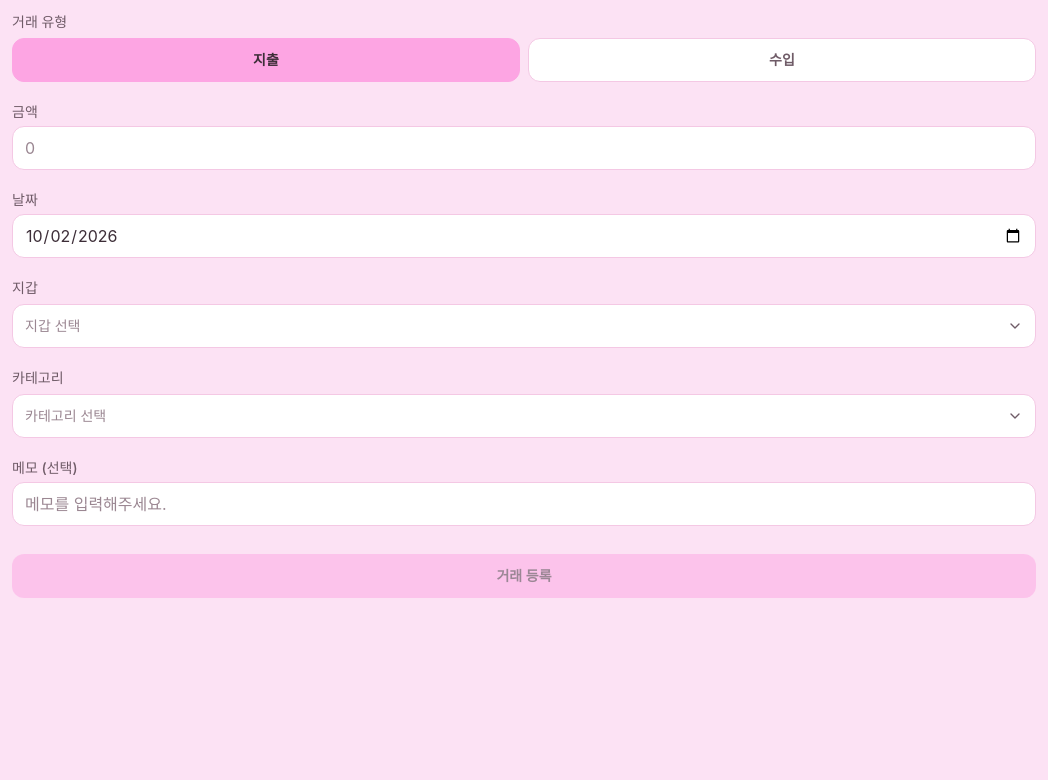
Test: TransactionForm - 카드할부 UI 노출 규칙 › 카드 지갑 선택 시 할부 개월수 입력이 노출된다
The image size is (1048, 780).
Click the button "지갑 선택" at (53,326), box [12, 304, 1036, 348]
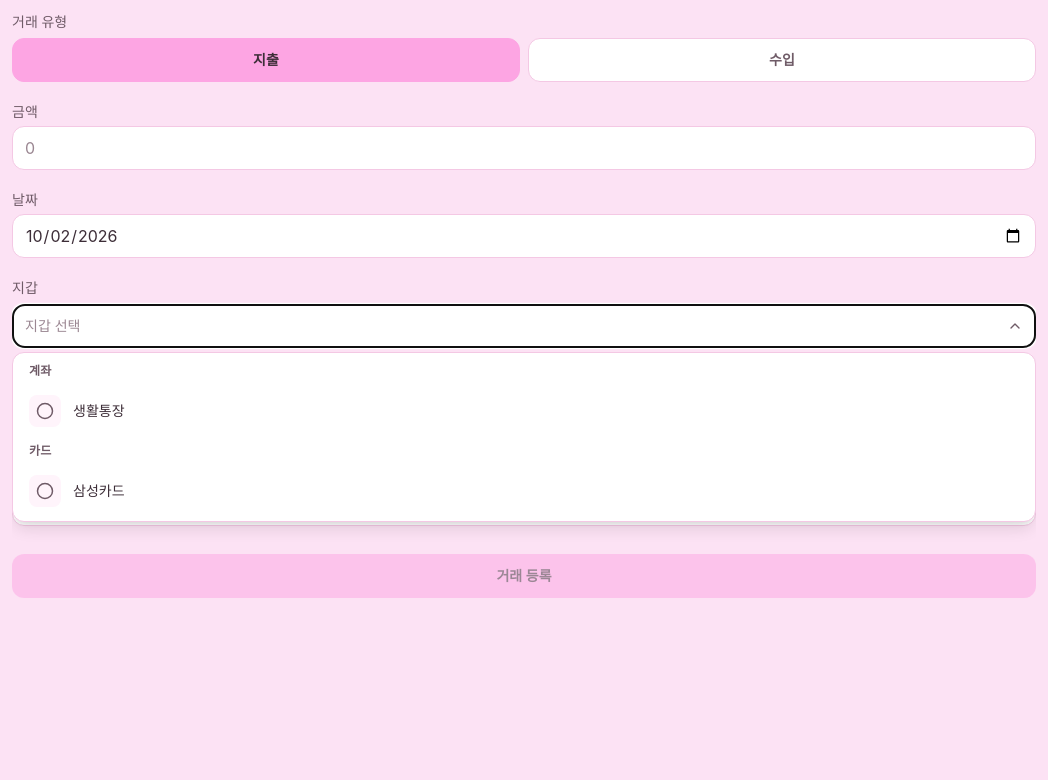
Click the button "삼성카드" at (45,491), box [13, 465, 1035, 517]
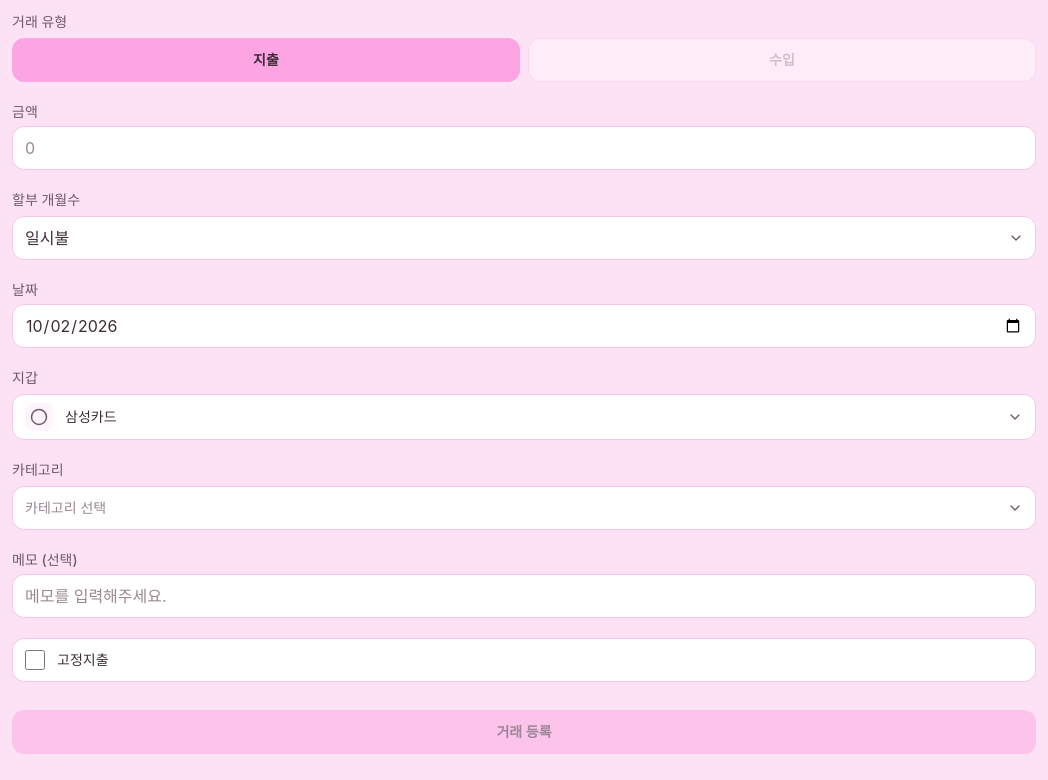
Check: the dropdown labelled "할부 개월수" is shown, box [12, 216, 1036, 260]
